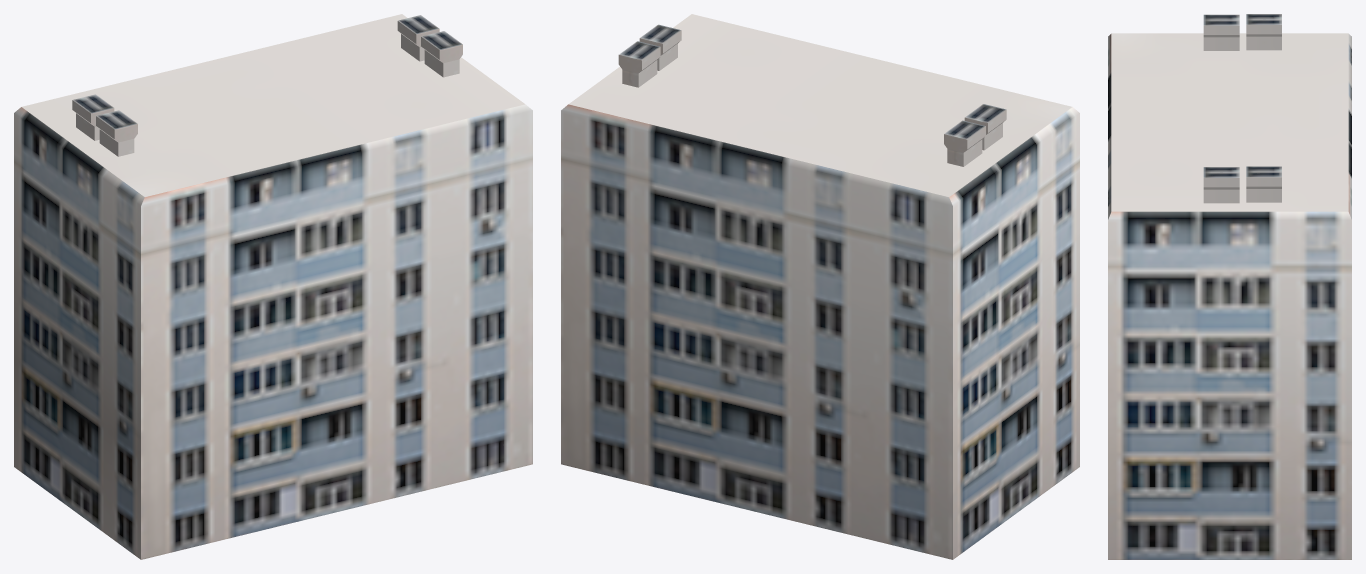
The model's file is Mesh_BuildingTypeD.fbx.
3 renders of one model, left to right at view 1: azimuth 30°, elevation 25°; view 2: azimuth 150°, elevation 25°; view 3: azimuth 270°, elevation 25°, orthographic. The views are drawn at different scales.
Parts seen in each view (by area): view 1: Box006; view 2: Box006; view 3: Box006.
Part boxes in pixels (x1,y1,x2,y2): Box006: (14,14,532,559); Box006: (561,14,1079,559); Box006: (1108,14,1351,559).
Bounding box in the file's own units: 1179 × 1116 × 662.
